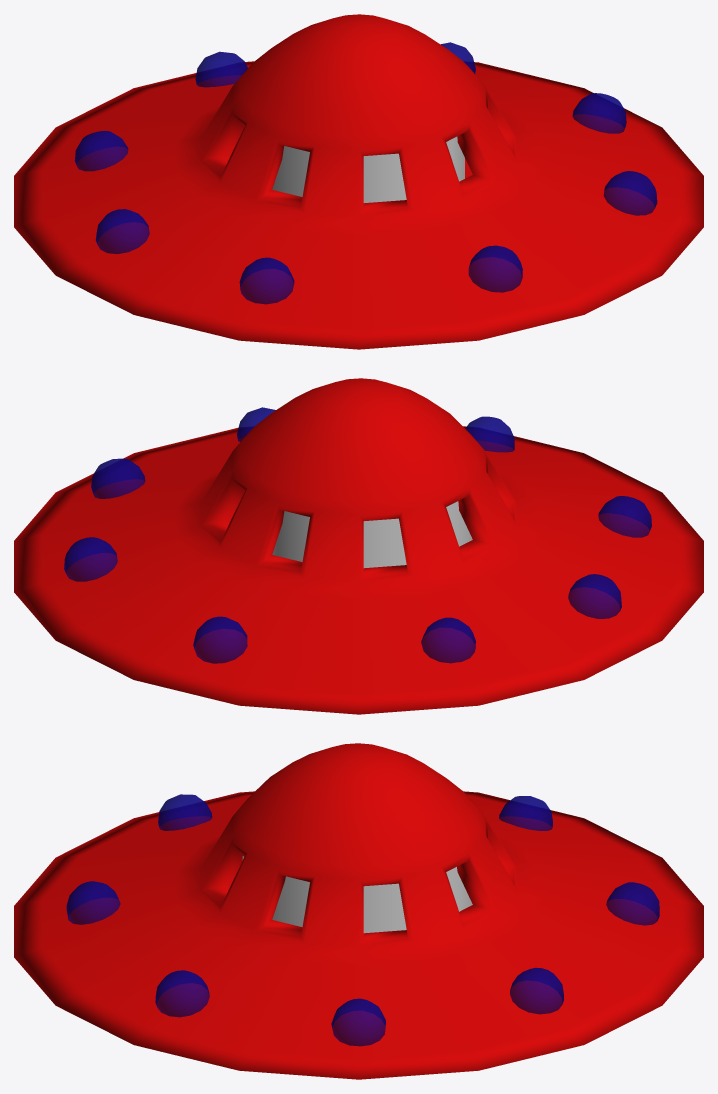
The model's file is vaisseau.FBX.
3 renders of one model, top to bottom at view 1: azimuth 30°, elevation 25°; view 2: azimuth 150°, elevation 25°; view 3: azimuth 270°, elevation 25°, orthographic.
Visible parts, largest first — view 1: Cylinder001, Cylinder002, Sphere001, Sphere005, Sphere003, Sphere006, Sphere004, Sphere008, Sphere002; view 2: Cylinder001, Cylinder002, Sphere002, Sphere008, Sphere003, Sphere007, Sphere005, Sphere004, Sphere001, Sphere006; view 3: Cylinder001, Cylinder002, Sphere004, Sphere006, Sphere007, Sphere001, Sphere002, Sphere005, Sphere008.
Boxes of the visible parts, x1,y1,x2,y2 form: Cylinder001: [14, 14, 703, 349]; Cylinder002: [272, 136, 464, 202]; Sphere001: [468, 245, 522, 292]; Sphere005: [239, 257, 294, 304]; Sphere003: [95, 209, 149, 253]; Sphere006: [603, 171, 657, 215]; Sphere004: [572, 93, 626, 133]; Sphere008: [74, 131, 128, 171]; Sphere002: [195, 51, 247, 87]; Cylinder001: [14, 378, 703, 714]; Cylinder002: [272, 501, 472, 568]; Sphere002: [193, 616, 247, 663]; Sphere008: [421, 617, 475, 663]; Sphere003: [568, 574, 621, 618]; Sphere007: [64, 537, 117, 581]; Sphere005: [598, 496, 651, 537]; Sphere004: [91, 458, 145, 498]; Sphere001: [465, 416, 514, 452]; Sphere006: [237, 407, 275, 441]; Cylinder001: [14, 743, 703, 1079]; Cylinder002: [242, 856, 472, 933]; Sphere004: [331, 998, 385, 1046]; Sphere006: [155, 970, 209, 1017]; Sphere007: [510, 967, 563, 1014]; Sphere001: [66, 881, 120, 924]; Sphere002: [606, 882, 659, 925]; Sphere005: [158, 794, 212, 830]; Sphere008: [499, 796, 552, 830].
Size of the model in its own units: 47.6 by 18.27 by 46.88.
